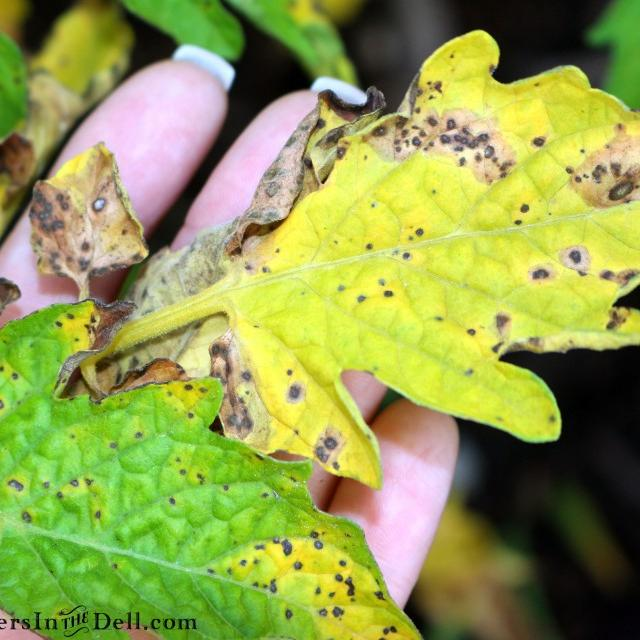Tomato Septoria leaf spot: (197, 41, 634, 450), (0, 310, 422, 640)
